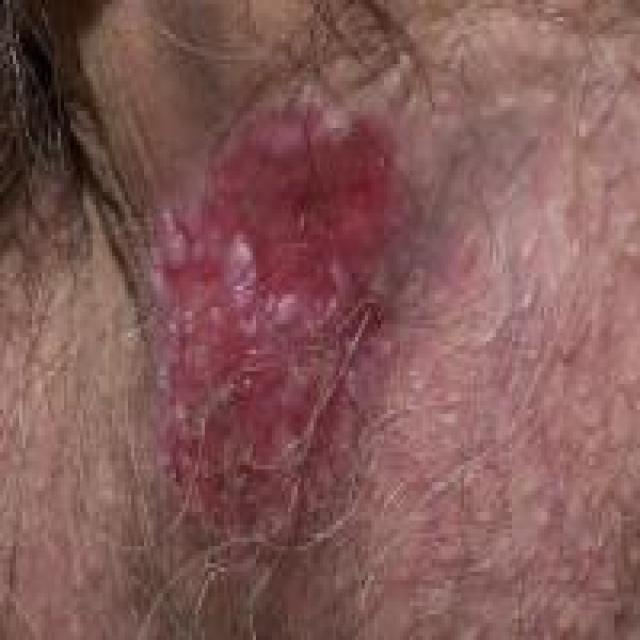Cancer: (124, 84, 428, 573)
